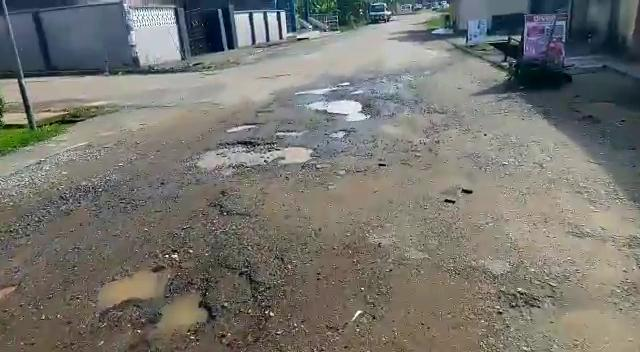pothole: (97, 272, 214, 331), (185, 139, 307, 171), (304, 97, 369, 117), (293, 85, 339, 96), (225, 123, 261, 133), (272, 127, 310, 136)
